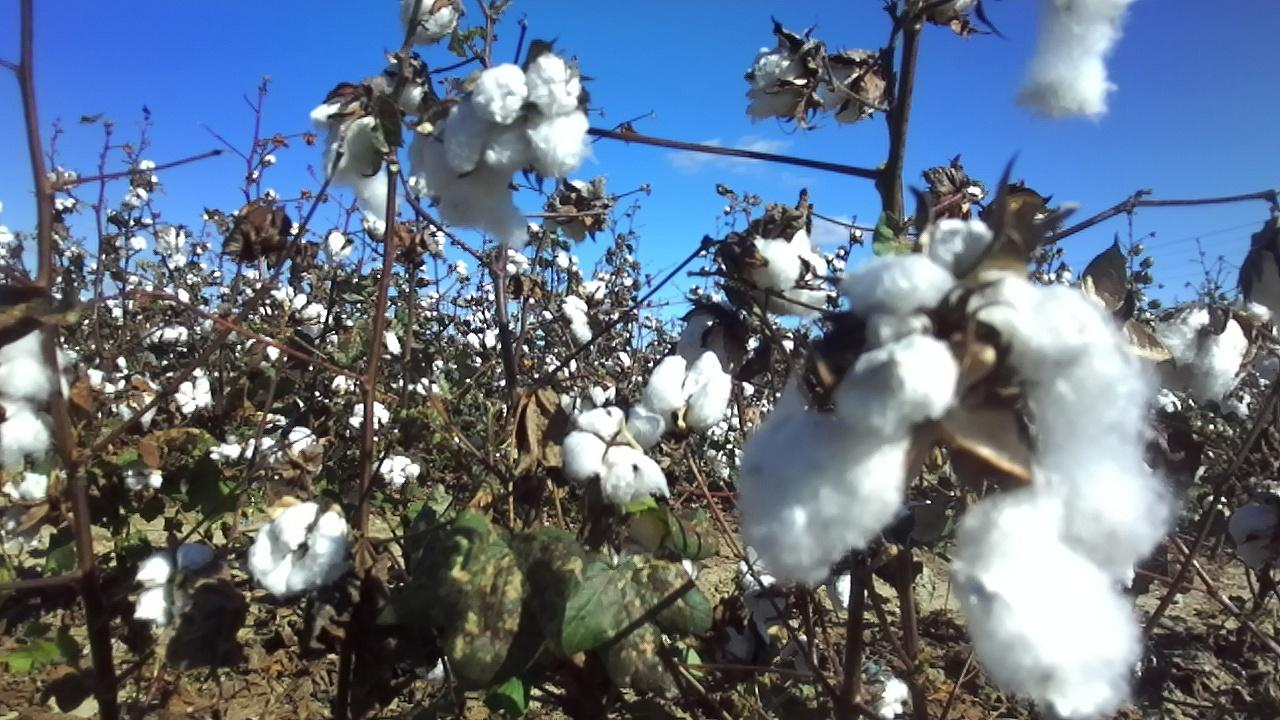cotton_ready: (737, 215, 1175, 720), (441, 52, 590, 178), (413, 103, 532, 250), (1014, 0, 1132, 127), (309, 90, 404, 224), (1142, 302, 1250, 406), (561, 405, 668, 505), (729, 222, 833, 318), (251, 502, 350, 600), (0, 321, 59, 469), (132, 542, 227, 626), (642, 351, 734, 432), (742, 46, 805, 125), (814, 57, 867, 127), (1230, 495, 1280, 566), (403, 0, 462, 47)
